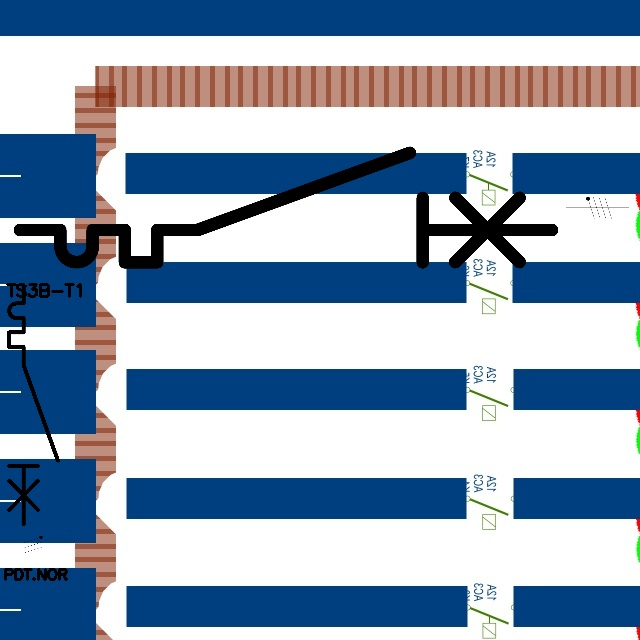interruptor_termomagnetico: (6, 139, 565, 276), (3, 279, 64, 530)
